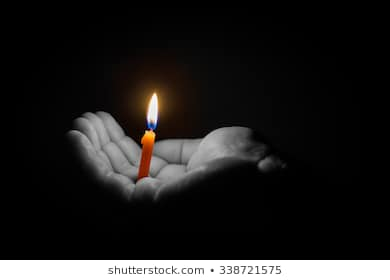Fire: (143, 91, 159, 130)
